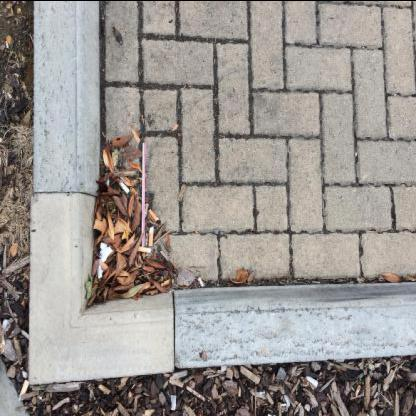Cigarette: (20, 379, 30, 396), (305, 375, 318, 386), (148, 209, 159, 221), (119, 179, 129, 192), (137, 245, 151, 252), (149, 225, 153, 245)
Paper: (97, 241, 113, 277)
Straw: (142, 141, 146, 245)
